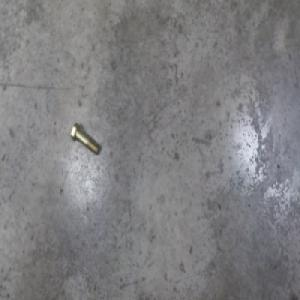Bolt: (70, 122, 99, 157)
